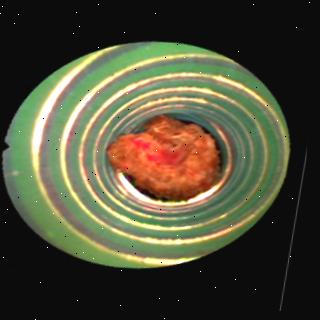stone: (109, 116, 223, 199)
